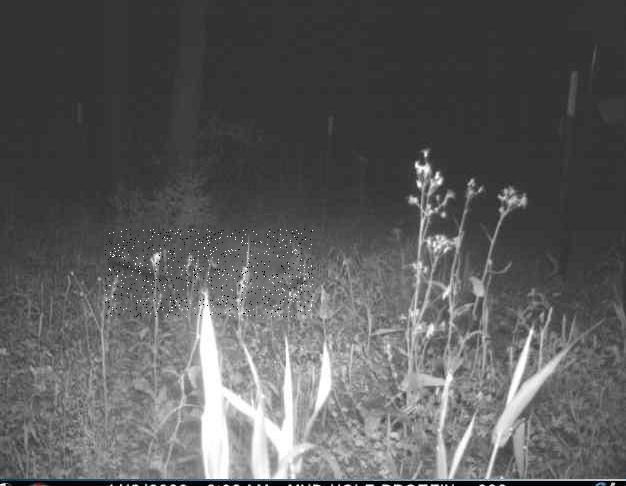Raccoon: (105, 230, 313, 318)
